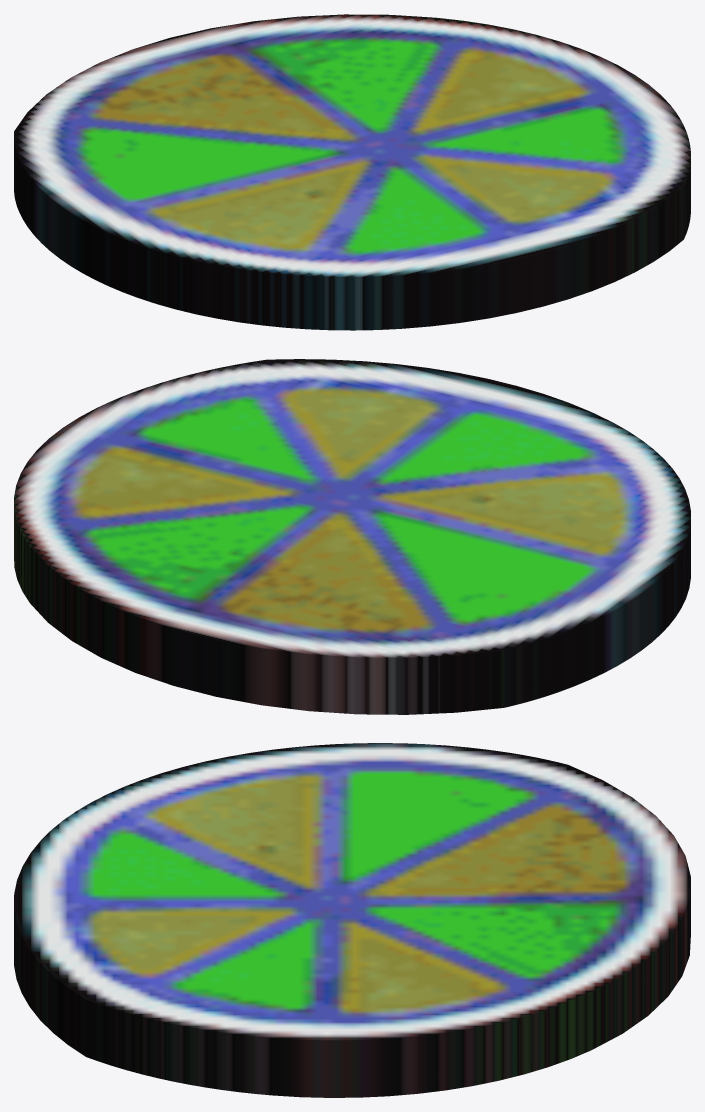
The model's file is muro del mar 2.dae.
The picture shows the model from 3 angles, top to bottom: view 1: azimuth 30°, elevation 25°; view 2: azimuth 150°, elevation 25°; view 3: azimuth 270°, elevation 25°; orthographic projection. The views are drawn at different scales.
Visible parts, largest first — view 1: SketchUp; view 2: SketchUp; view 3: SketchUp.
Part boxes in pixels (x1=…): SketchUp: x1=14, y1=14, x2=690, y2=330; SketchUp: x1=14, y1=359, x2=690, y2=714; SketchUp: x1=14, y1=743, x2=690, y2=1097.
Bounding box in the file's own units: 11.08 × 10.66 × 1.
